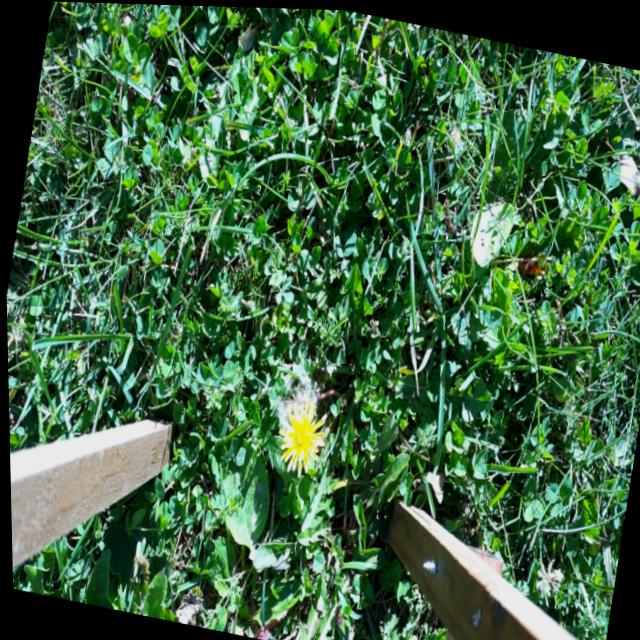base: (331, 387, 356, 423)
